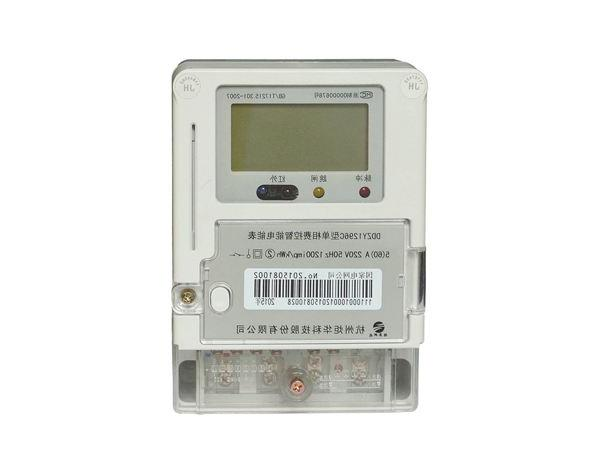digital: (173, 67, 426, 347)
